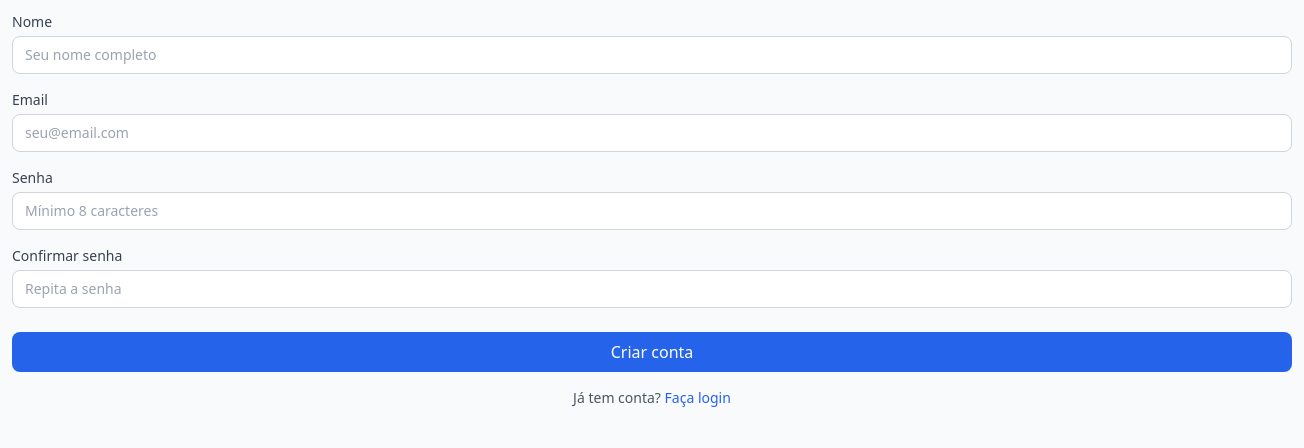
Scenario: RegisterForm › deve exibir erro quando nome tem menos de 2 caracteres
In the field labelled "Nome": (652, 55) [12,36,1292,74], type "A"
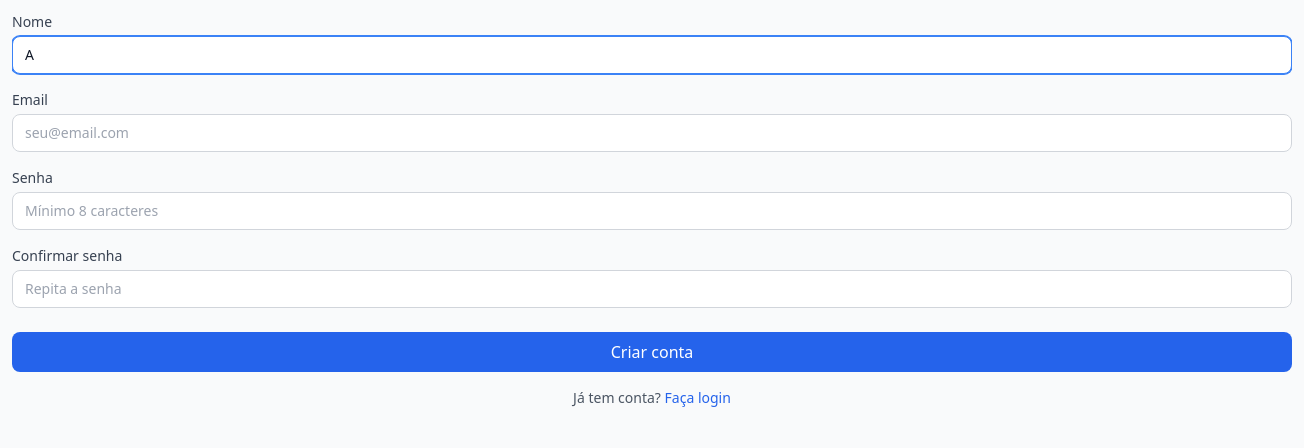
In the field labelled "Email": (652, 133) [12,114,1292,152], type "test@test.com"
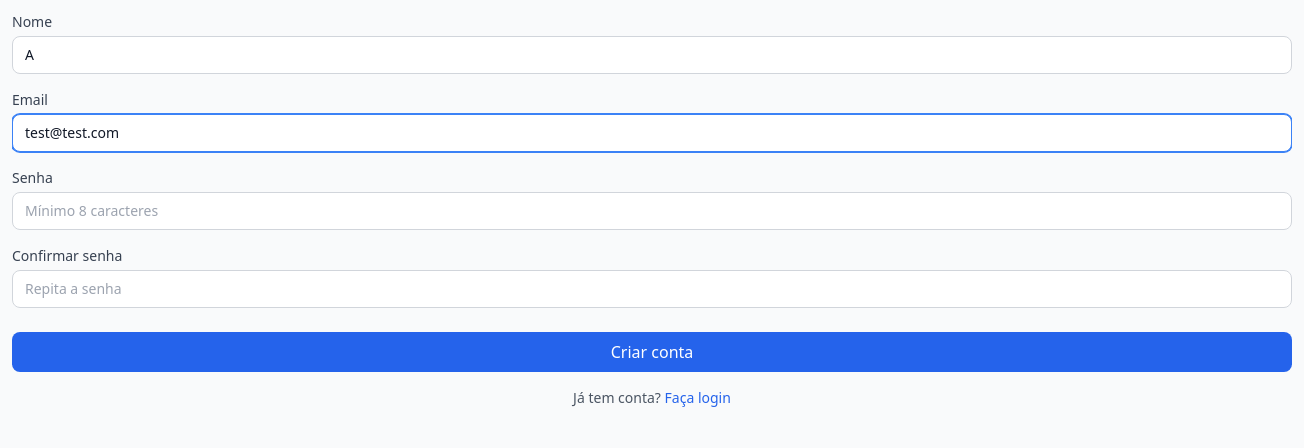
In the password field labelled "Senha": (652, 211) [12,192,1292,230], type "12345678"
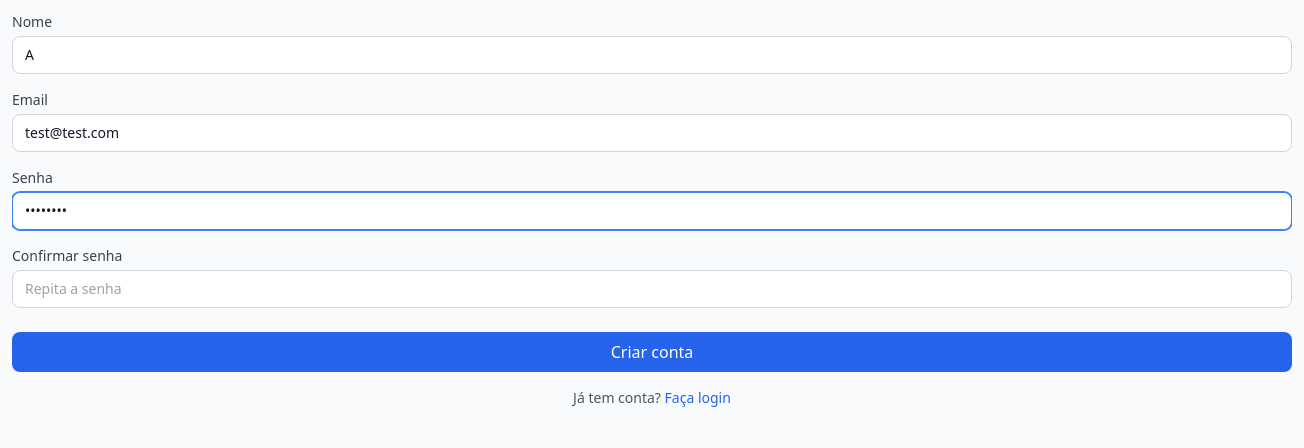
In the password field labelled "Confirmar senha": (652, 289) [12,270,1292,308], type "12345678"
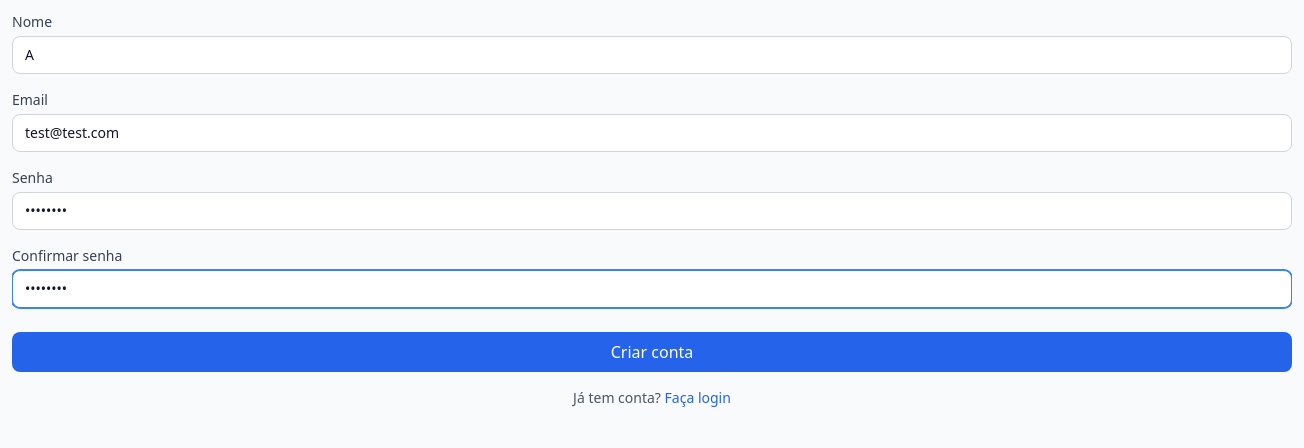
Click the button "Criar conta": (652, 352) [12,332,1292,372]
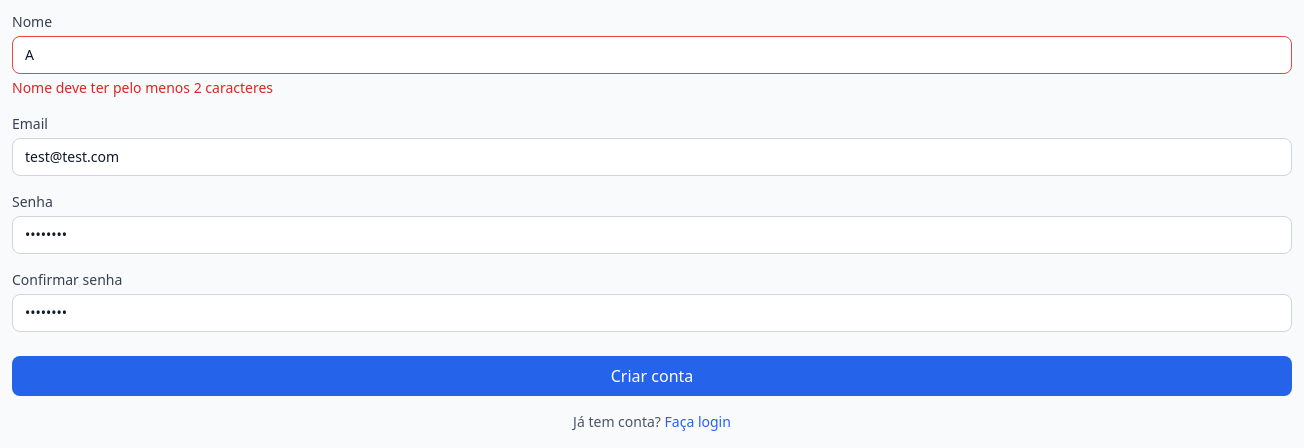
expect the text "Nome deve ter pelo menos 2 caracteres" is shown: met, box [12,78,273,97]
